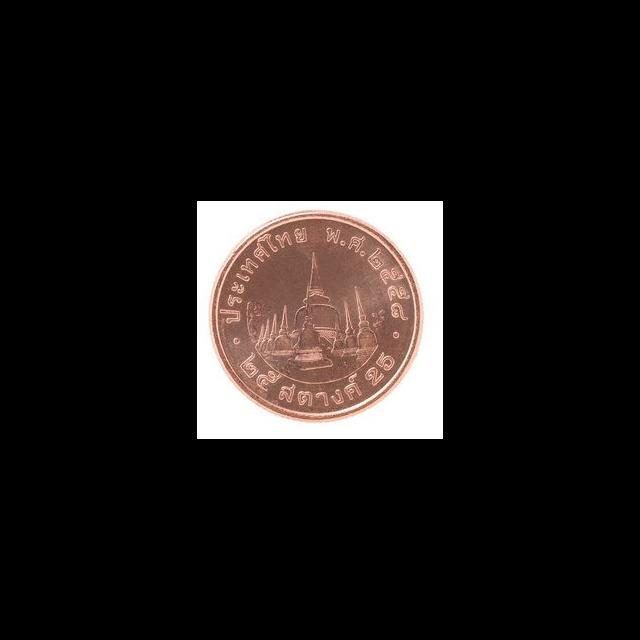25-satang: (197, 201, 443, 427)
